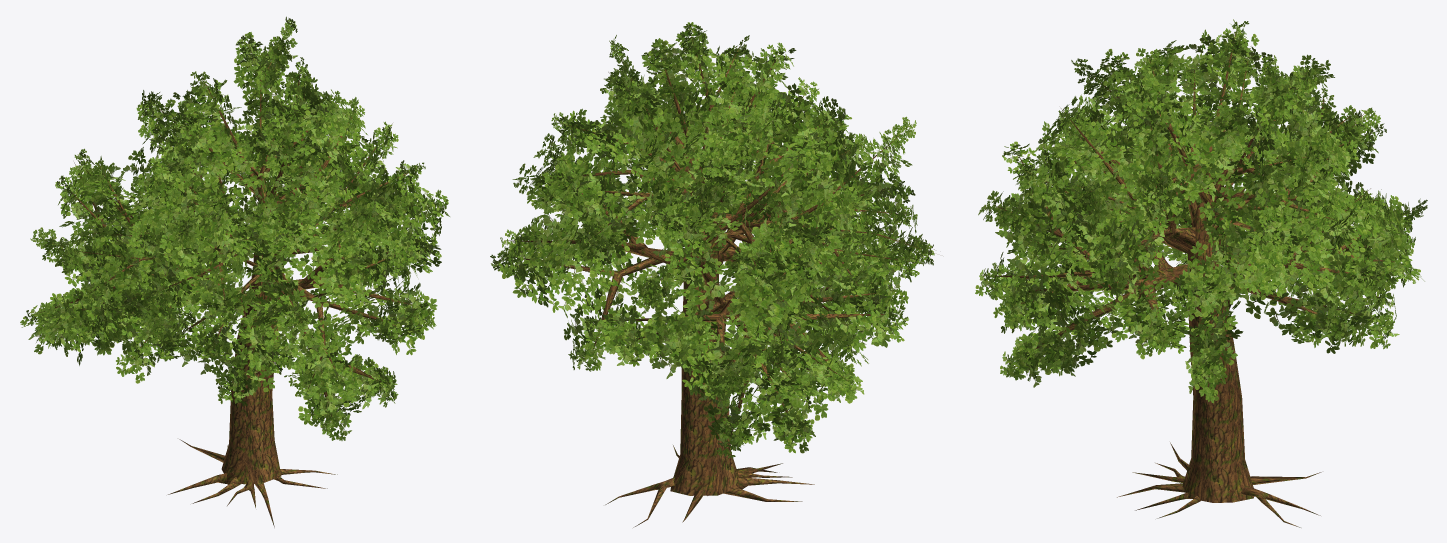
The model's file is Shiness_tree_basic_green1.fbx.
3 renders of one model, left to right at view 1: azimuth 30°, elevation 25°; view 2: azimuth 150°, elevation 25°; view 3: azimuth 270°, elevation 25°, orthographic. The views are drawn at different scales.
Parts seen in each view (by area): view 1: Shiness_tree_basic_green1; view 2: Shiness_tree_basic_green1; view 3: Shiness_tree_basic_green1.
Boxes of the visible parts, left/top/right/bottom form: Shiness_tree_basic_green1: left=20, top=16, right=449, bottom=527; Shiness_tree_basic_green1: left=490, top=22, right=934, bottom=527; Shiness_tree_basic_green1: left=975, top=19, right=1427, bottom=527.
Bounding box in the file's own units: 69.74 × 78.65 × 66.97.
